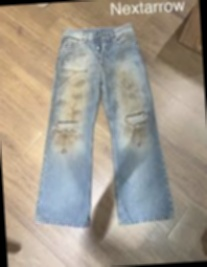earth: (61, 77, 87, 121), (121, 77, 136, 110), (54, 131, 79, 147), (125, 124, 145, 139)
